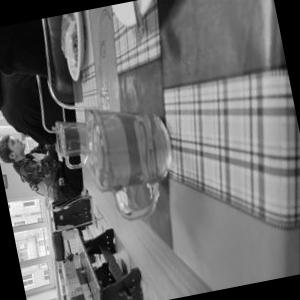tea: (78, 85, 183, 199), (46, 103, 110, 172)
